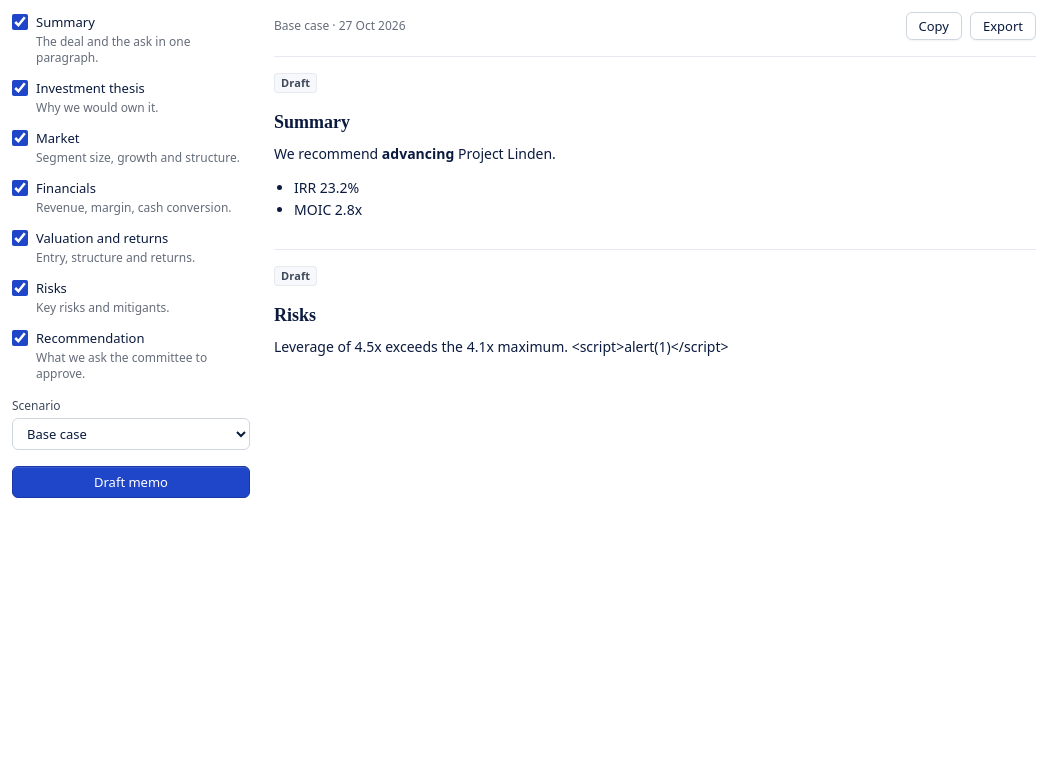
IC memo › shows the run's cost and error when drafting fails
Click the button "Draft memo". click: (131, 482)
box: [12, 466, 250, 498]
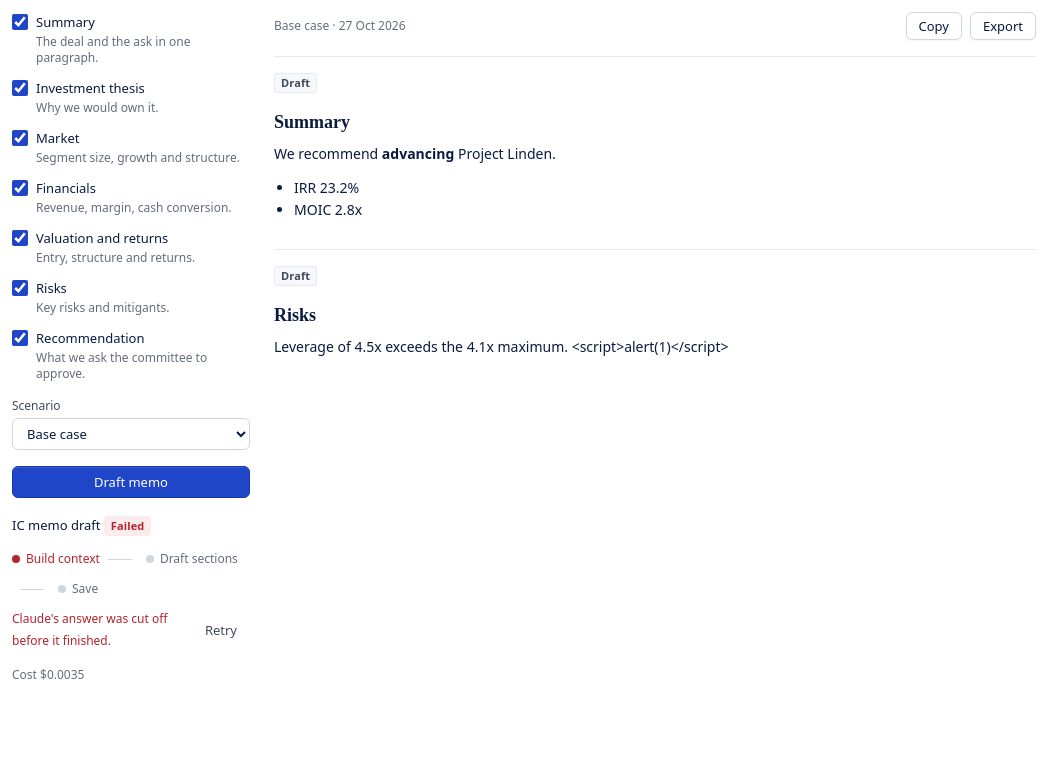
Result: the message shows "cut off" at [12, 610, 167, 649]
Result: the element with test id "memo-progress" shows "$0.0035" at [40, 666, 84, 683]
